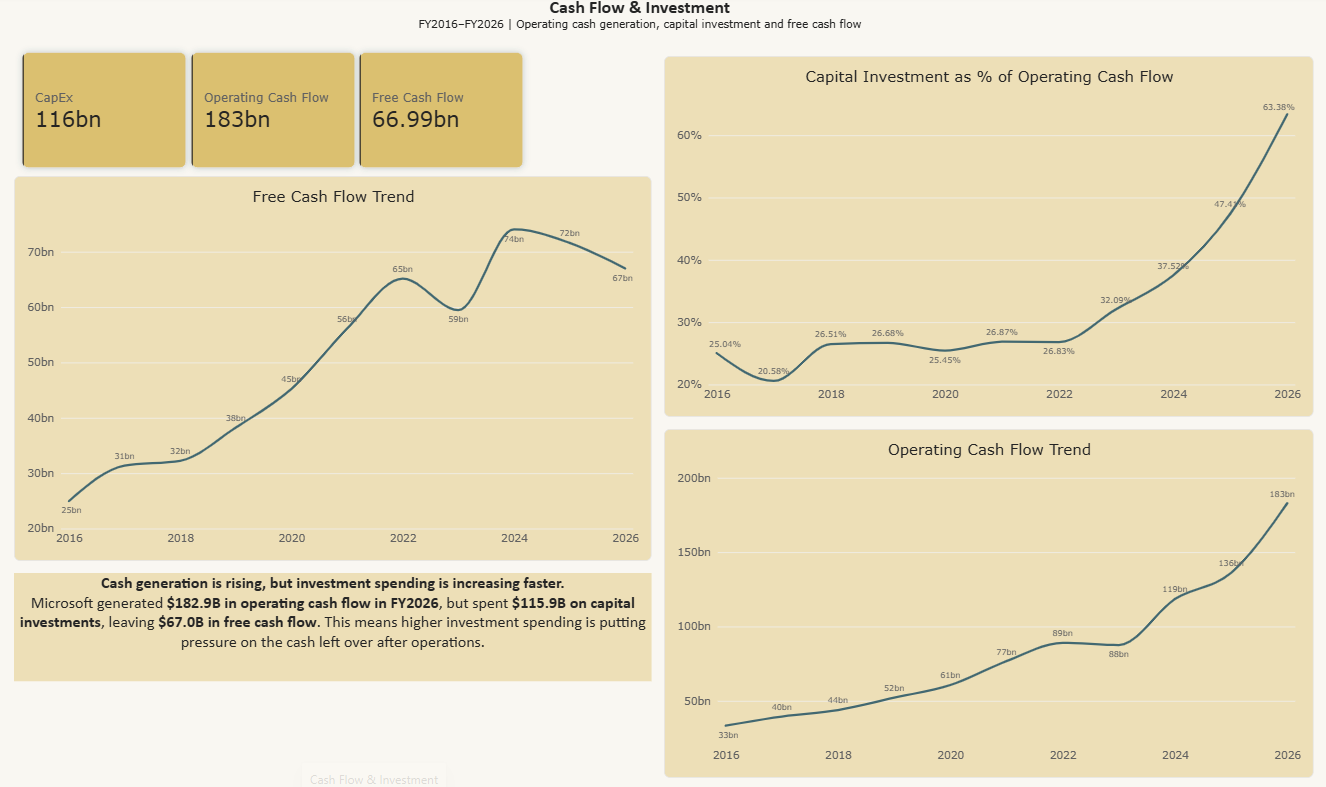

The page's visual inventory and layout, read from the dashboard file:
{"tool":"powerbi","page":{"name":"Cash Flow & Investment","canvas":[1920,1080],"ordinal":1},"visuals":[{"type":"lineChart","title":"Capital Investment as % of Operating Cash Flow","fields":{"Category":["microsoft_financials.fiscal_year"],"Y":["microsoft_financials.CapEx % of OCF"]},"box":[992,80,864,480],"z":0},{"type":"lineChart","title":"Free Cash Flow Trend","fields":{"Category":["microsoft_financials.fiscal_year"],"Y":["Sum(microsoft_financials.free_cash_flow)"]},"box":[128,240,848,512],"z":1000},{"type":"lineChart","title":"Operating Cash Flow Trend","fields":{"Y":["Sum(microsoft_financials.operating_cash_flow)"],"Category":["microsoft_financials.fiscal_year"]},"box":[992,576,864,464],"z":2000},{"type":"cardVisual","fields":{"Data":["microsoft_financials.FY2026 CapEx"]},"box":[128,64,240,176],"z":3000},{"type":"cardVisual","fields":{"Data":["microsoft_financials.FY2026 Operating Cash Flow"]},"box":[352,64,240,176],"z":4000},{"type":"cardVisual","fields":{"Data":["microsoft_financials.Total Free Cash Flow"]},"box":[576,64,240,176],"z":5000},{"type":"textbox","box":[128,768,848,144],"z":6000},{"type":"textbox","box":[0,0,1920,64],"z":7000}]}

Visuals, with their boxes on the page's 1920x1080 design canvas (x1, y1, x2, y2). These are canvas units, not pixel positions in the 1326x787 screenshot, which may show the page scaled, cropped or inside an application window:
"Capital Investment as % of Operating Cash Flow" lineChart: (left=992, top=80, right=1856, bottom=560)
"Free Cash Flow Trend" lineChart: (left=128, top=240, right=976, bottom=752)
"Operating Cash Flow Trend" lineChart: (left=992, top=576, right=1856, bottom=1040)
cardVisual - microsoft_financials.FY2026 CapEx: (left=128, top=64, right=368, bottom=240)
cardVisual - microsoft_financials.FY2026 Operating Cash Flow: (left=352, top=64, right=592, bottom=240)
cardVisual - microsoft_financials.Total Free Cash Flow: (left=576, top=64, right=816, bottom=240)
textbox: (left=128, top=768, right=976, bottom=912)
textbox: (left=0, top=0, right=1920, bottom=64)
